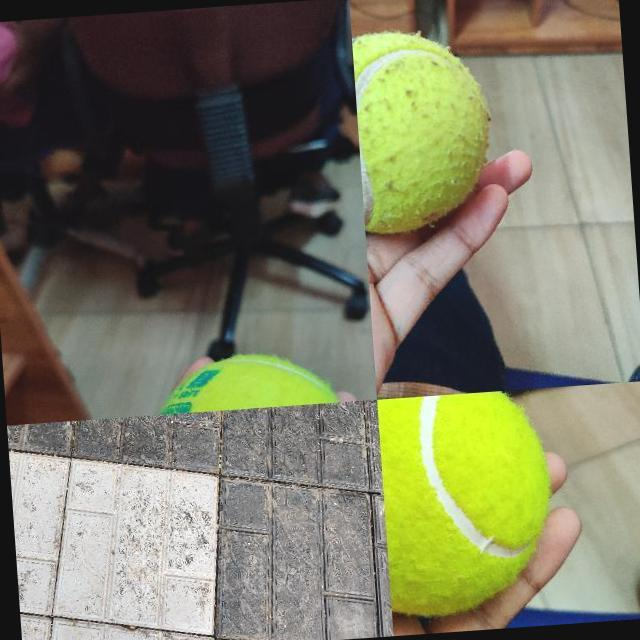Tennis Ball: (376, 388, 556, 616), (351, 22, 498, 236), (138, 344, 362, 414)
